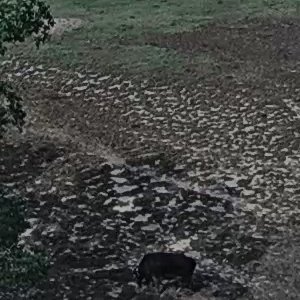cow: (125, 243, 222, 294)
